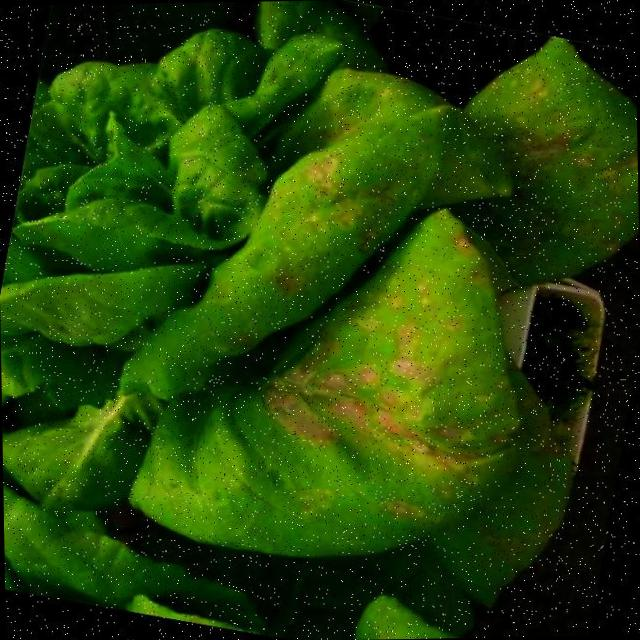Downy_mildew: (150, 79, 567, 608)
